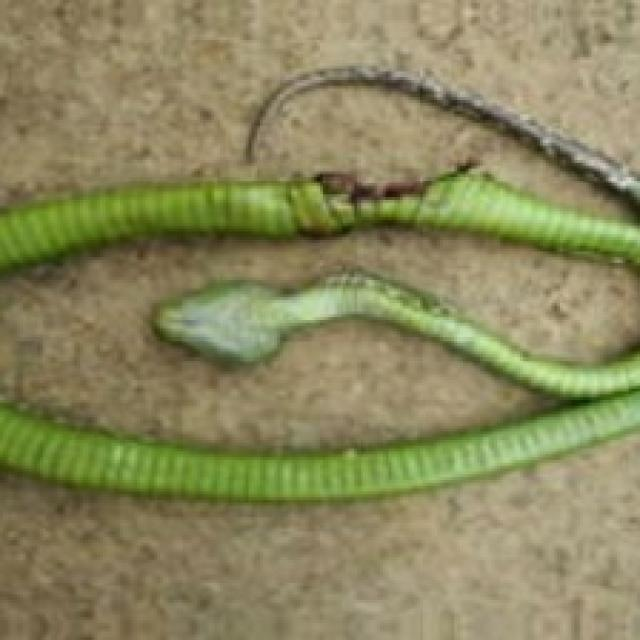philippine pitviper: (0, 269, 637, 500), (0, 166, 637, 271), (249, 69, 637, 206)
